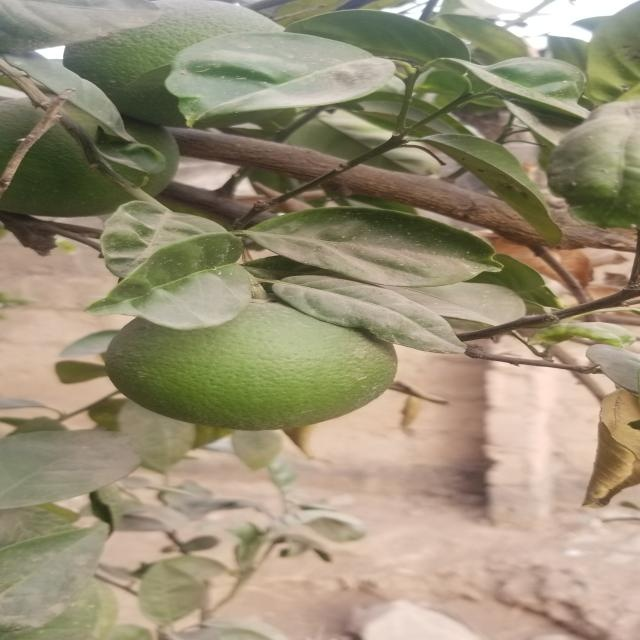agrume: (114, 301, 408, 428)
